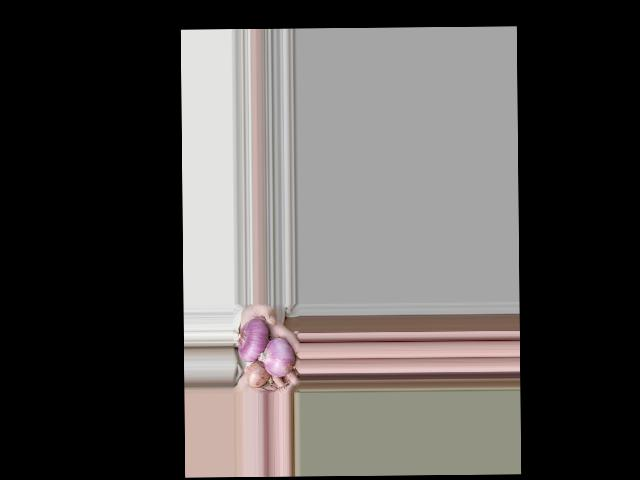onion: (239, 318, 266, 360)
